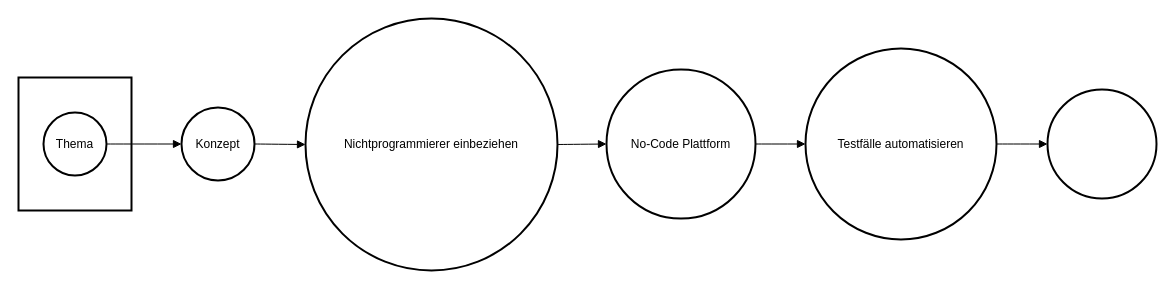
This 1174x288 diagram has some shape labels left out. The box of each missing label's shape, as (x1, y1, x2, y2) in pixels:
Diplomarbeit: (17, 76, 132, 211)
Selbstständig: (1046, 88, 1157, 199)
